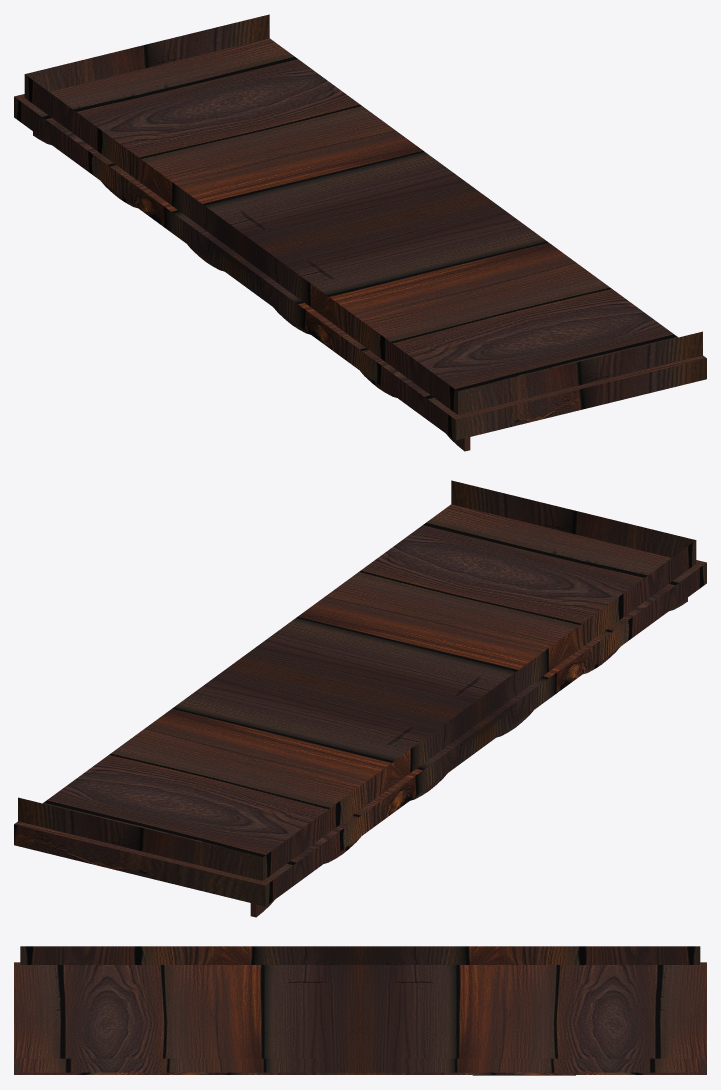
File: counter.obj
3 renders of one model, top to bottom at view 1: azimuth 30°, elevation 25°; view 2: azimuth 150°, elevation 25°; view 3: azimuth 270°, elevation 25°, orthographic. The views are drawn at different scales.
Visible parts, largest first — view 1: Contraesquina; view 2: Contraesquina; view 3: Contraesquina.
Boxes of the visible parts, bbox=[...] form: Contraesquina: bbox=[14, 14, 706, 451]; Contraesquina: bbox=[14, 480, 706, 917]; Contraesquina: bbox=[14, 946, 706, 1075].
Size of the model in its own units: 6.56 by 1.56 by 19.95.
1 material, 1 textured.
